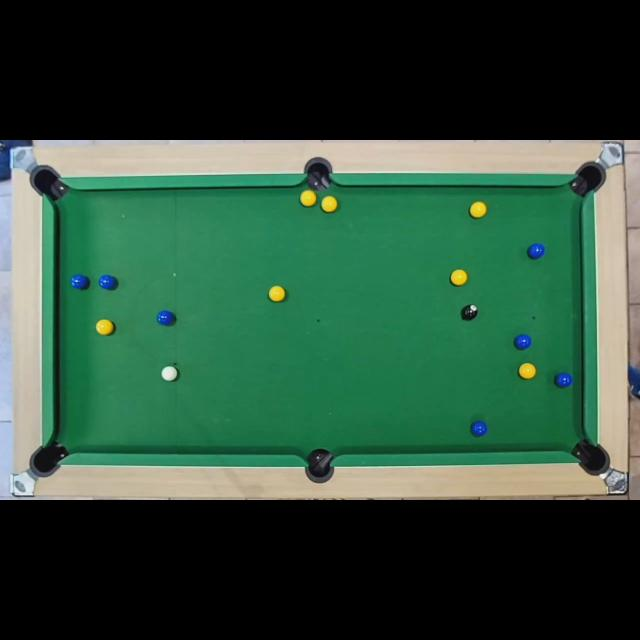Ball: (554, 372, 572, 388), (469, 202, 487, 218), (96, 319, 114, 335), (268, 286, 286, 302), (98, 274, 115, 290), (514, 334, 530, 350), (528, 243, 544, 259), (520, 363, 536, 379), (451, 269, 467, 285), (471, 421, 487, 437), (300, 191, 316, 207), (322, 196, 338, 212), (161, 366, 177, 382), (462, 306, 478, 320), (158, 311, 174, 325), (72, 275, 86, 289)
